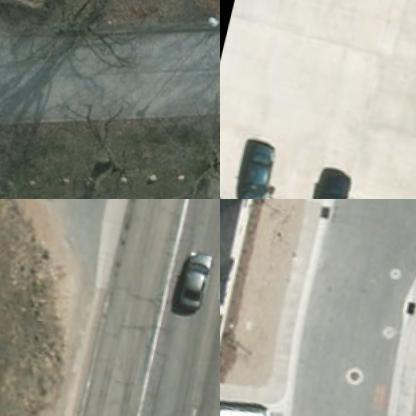car: (235, 132, 283, 198), (179, 242, 216, 307), (220, 382, 278, 415)
pickup: (313, 161, 360, 198)
